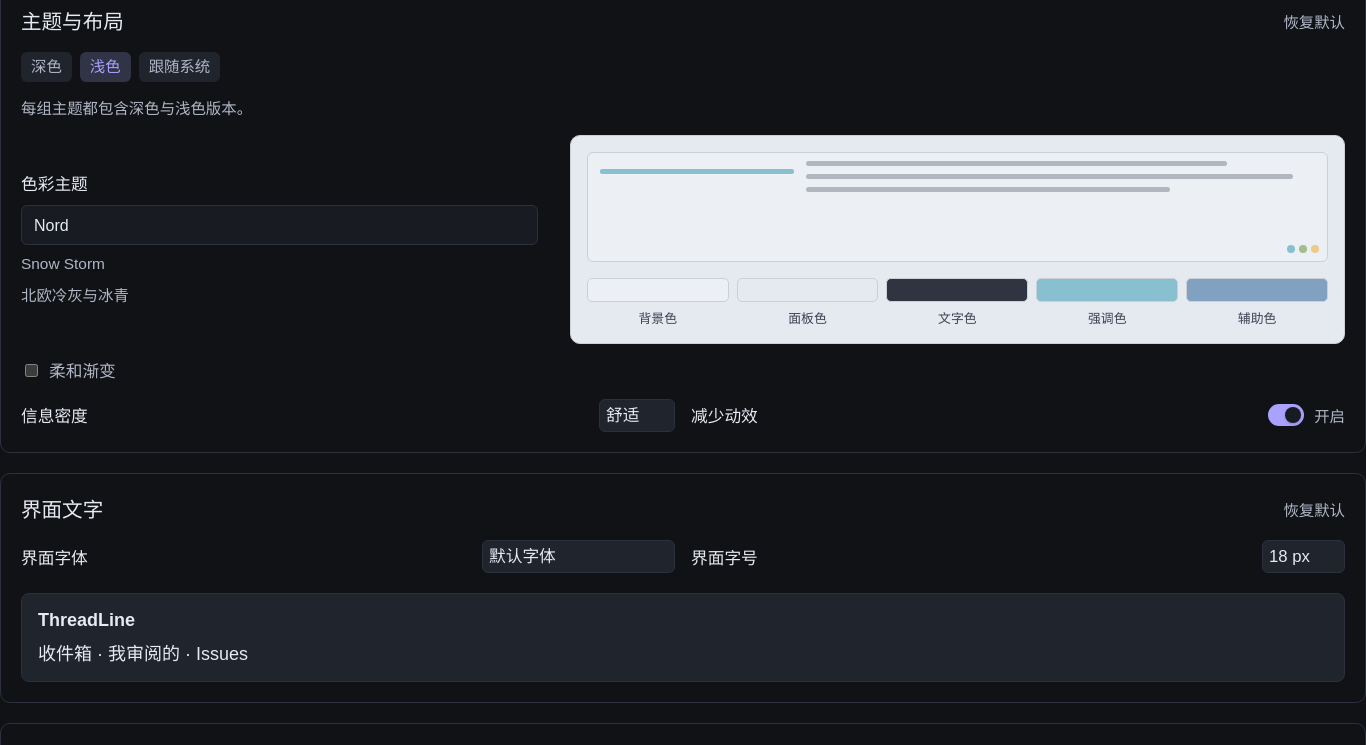
restores theme and layout defaults without changing typography
The image size is (1366, 745).
Step 1. Click the button "恢复默认" in the row of "主题与布局" → {"x": 1314, "y": 21}, box [1283,6,1345,36]
(page scrolled)
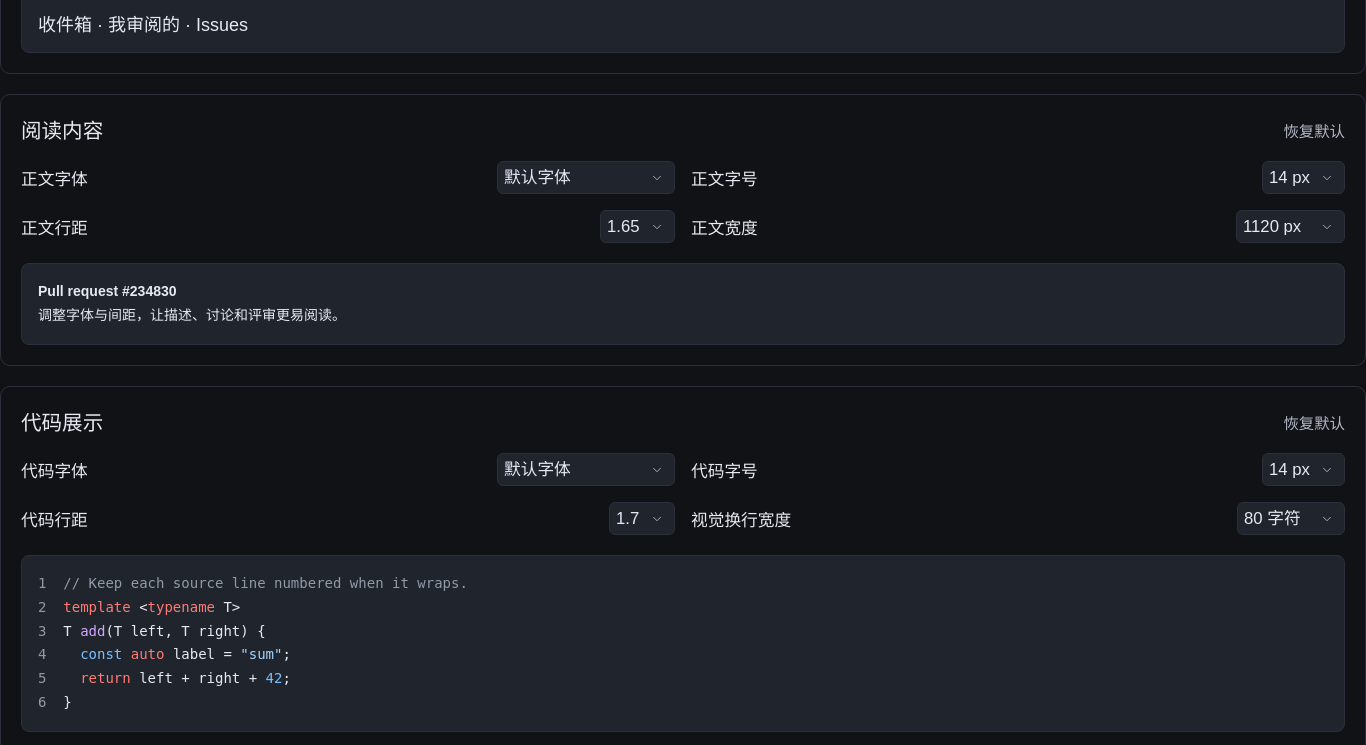
Now the text "return" is shown, box [80,670,131,686]
